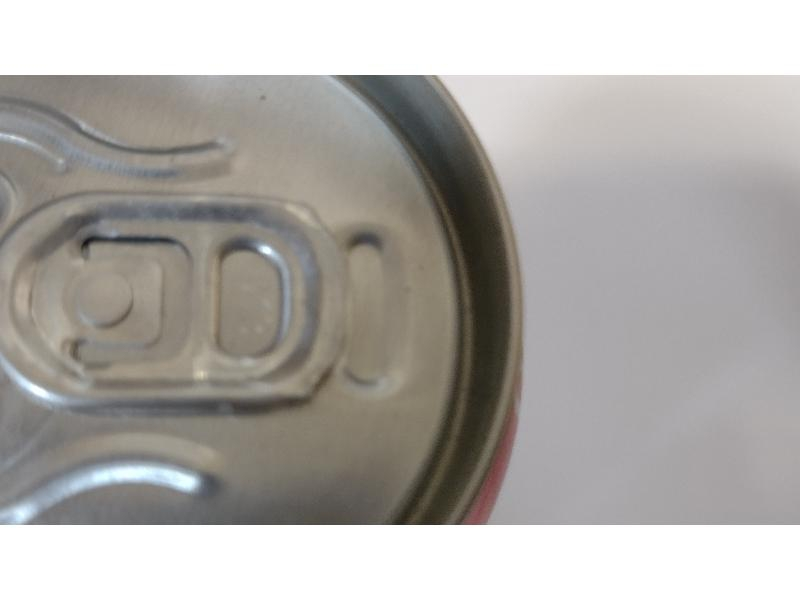can: (0, 76, 514, 524)
